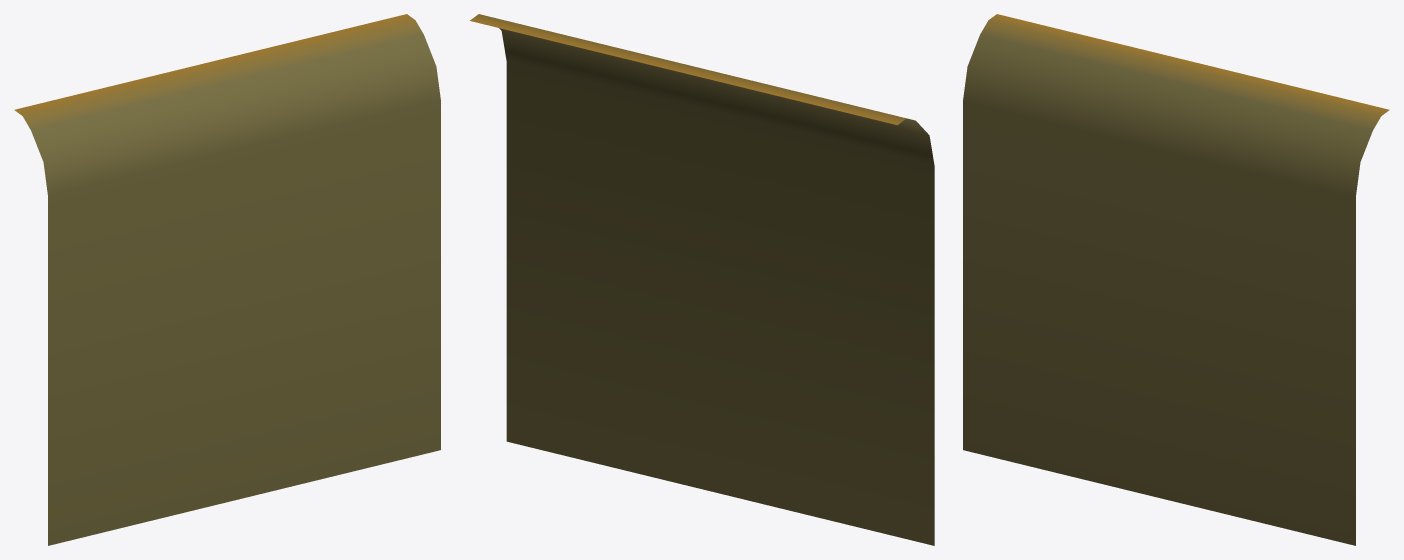
The model's file is Base_WallRoad.fbx.
The picture shows the model from 3 angles, left to right: view 1: azimuth 30°, elevation 25°; view 2: azimuth 150°, elevation 25°; view 3: azimuth 330°, elevation 25°; orthographic projection. The views are drawn at different scales.
Parts seen in each view (by area): view 1: Base_WallRoad; view 2: Base_WallRoad; view 3: Base_WallRoad.
Part boxes in pixels (<box>): Base_WallRoad: <box>14,14,440,545</box>; Base_WallRoad: <box>470,14,934,545</box>; Base_WallRoad: <box>963,14,1389,545</box>.
Size of the model in its own units: 2000 by 2000 by 300.
